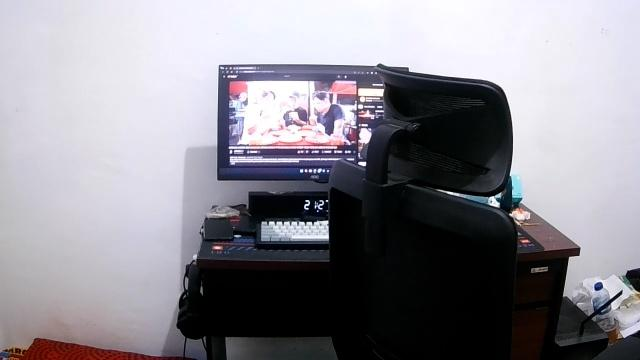AIO PC-Monitor-TV: (215, 62, 409, 180)
Kursi: (324, 62, 518, 359)
